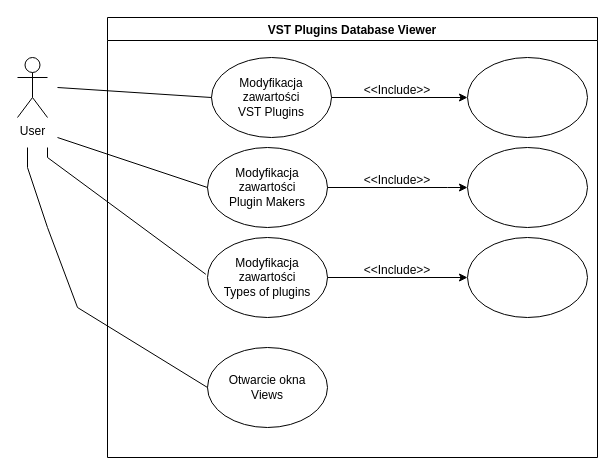
This 615x475 diagram has some shape labels left out. The shapes that lost their labels are listed below. From the top down, each one's box as (x1, y1, x2, y2) in pixels, then its label:
(466, 56, 588, 138): Otwarcie okna VST Plugins
(466, 146, 588, 228): Otwarcie okna Plugin Makers
(466, 236, 588, 318): Otwarcie okna Types of plugins
